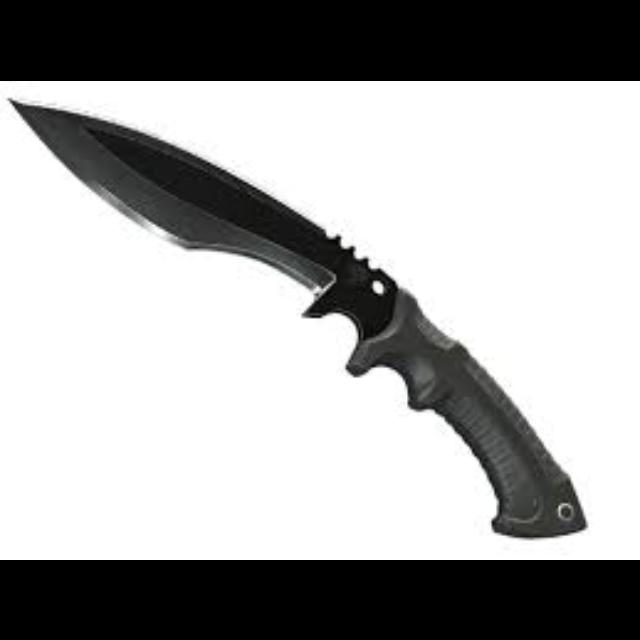Knife: (6, 95, 588, 537)
